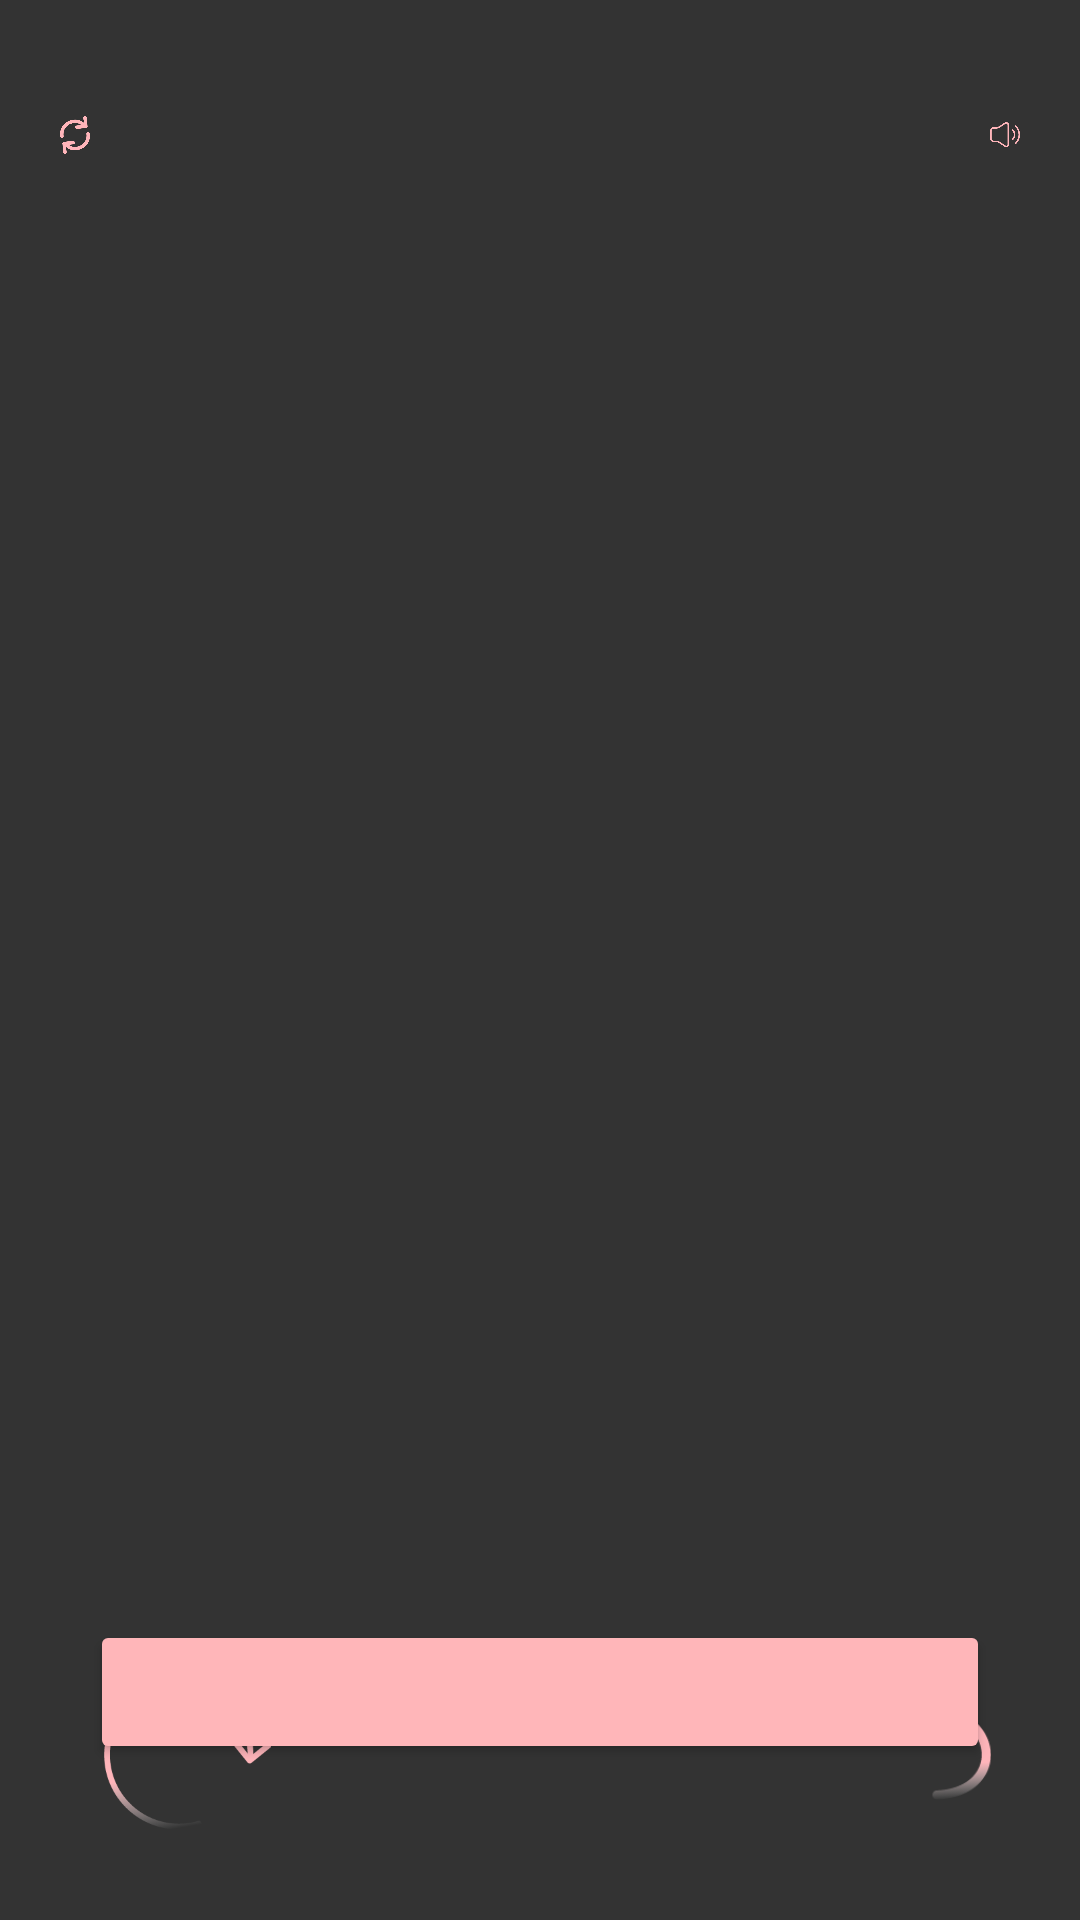

Named icons in this screenshot (1080w x 1920h) and their bounding boxes, detection(x1, y1, x2, y2):
sound: detection(990, 122, 1020, 147)
switch: detection(60, 116, 90, 154)
